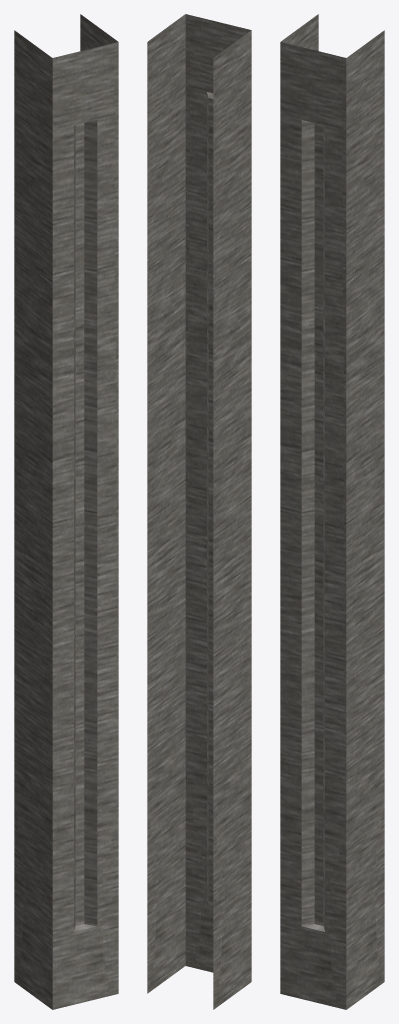
File: saeule_ornate.obj
The picture shows the model from 3 angles, left to right: view 1: azimuth 30°, elevation 25°; view 2: azimuth 150°, elevation 25°; view 3: azimuth 330°, elevation 25°; orthographic projection.
Visible parts, largest first — view 1: pCube1; view 2: pCube1; view 3: pCube1.
Boxes of the visible parts, x1,y1,x2,y2 form: pCube1: [14, 14, 118, 1009]; pCube1: [147, 14, 251, 1009]; pCube1: [280, 14, 384, 1009].
Bounding box in the file's own units: 0.2618 × 3.6 × 0.2618.
Materials: 1 (1 with a texture image).
